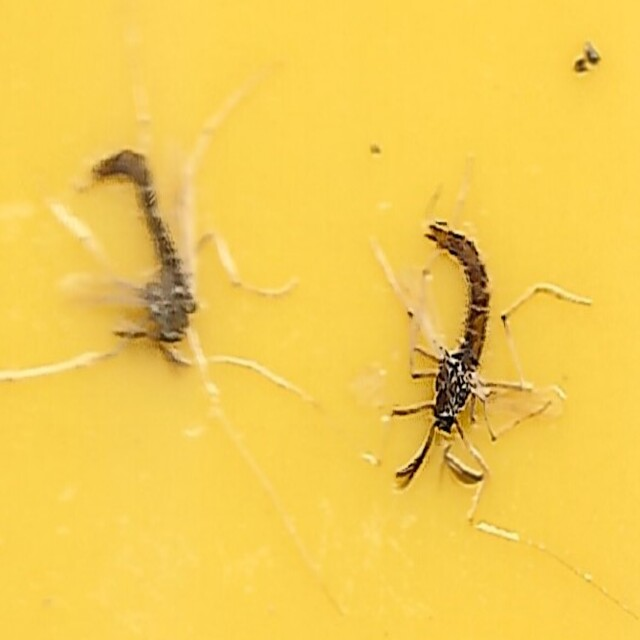Nematocera: (388, 218, 544, 493), (96, 147, 210, 381)
